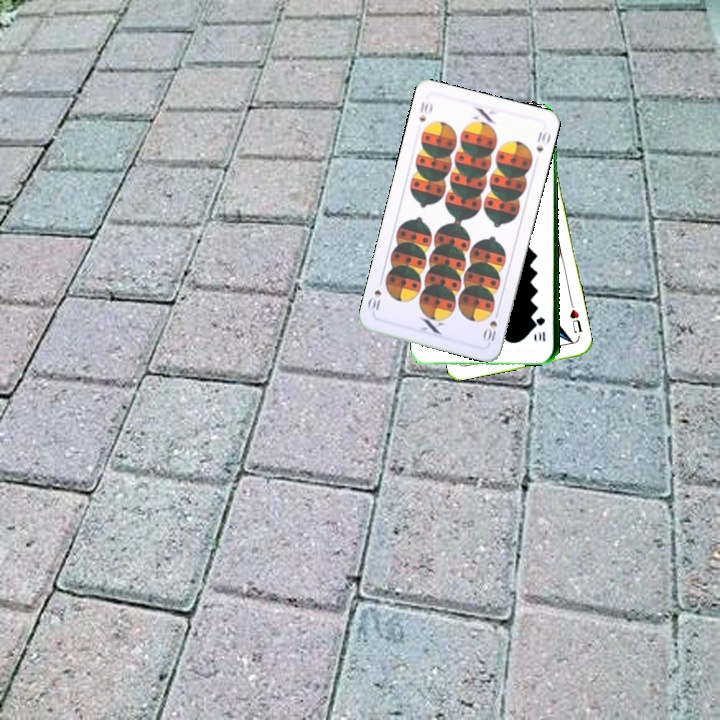G10: (534, 313, 548, 344)
HU: (566, 305, 585, 336)
S10: (480, 306, 502, 346), (415, 97, 435, 124)
